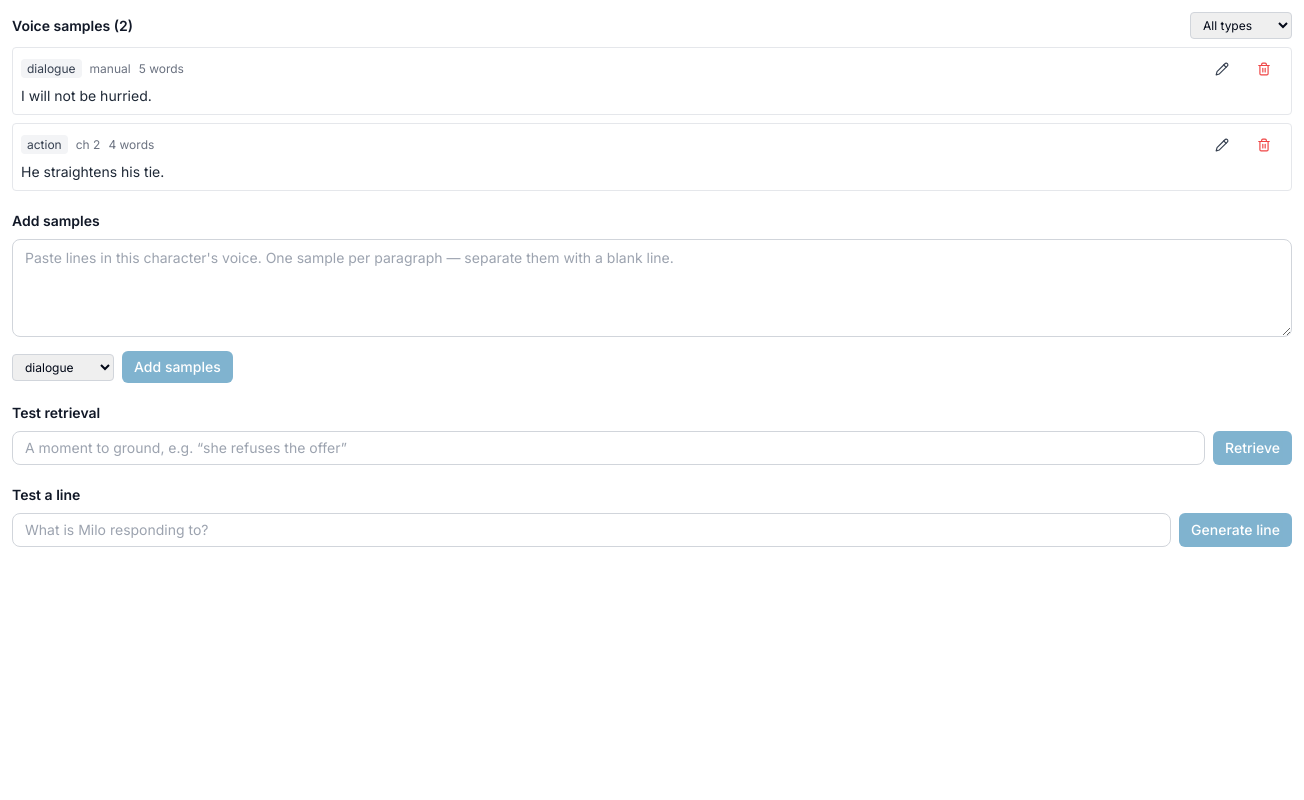
VoicePanel › retrieval shows ranked scores with the threshold line
The image size is (1304, 800).
Step 1. Type "refuses" into the field named "Retrieval query" → (609, 448), box x1=12 y1=431 x2=1205 y2=465
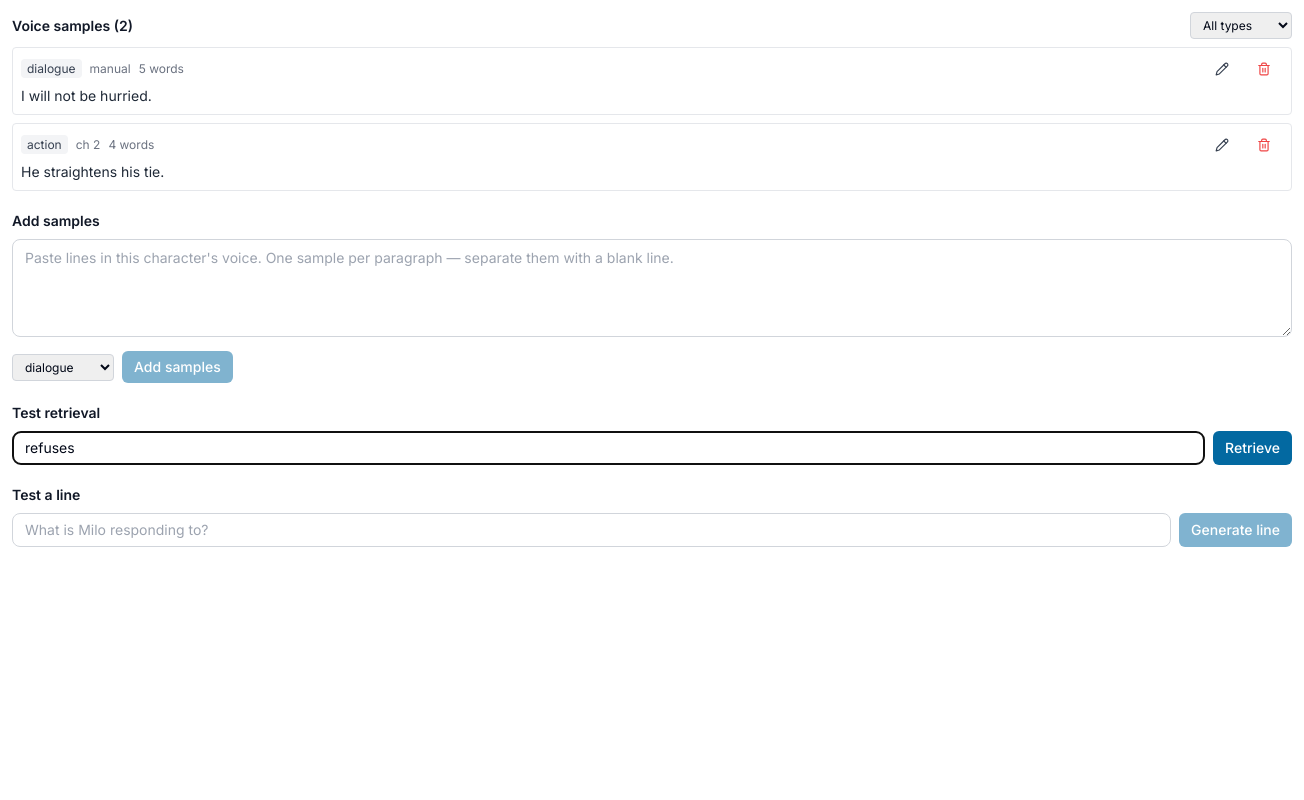
Step 2. Click the button "Retrieve" → click(1253, 448), box x1=1213 y1=431 x2=1292 y2=465
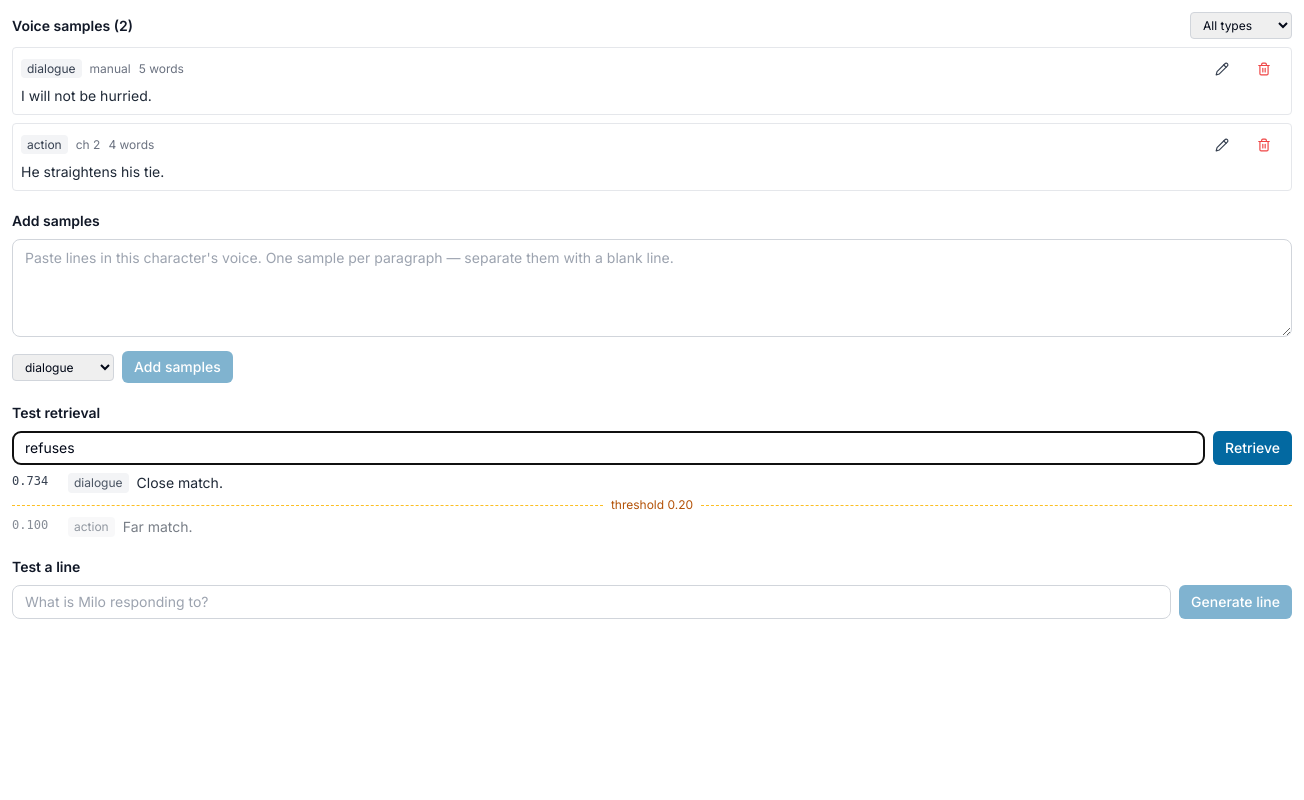
Result: the list item with test id "retrieval-hit" shows "0.734" at x1=12 y1=474 x2=48 y2=488
Result: the list item with test id "retrieval-hit" shows "Close match." at x1=136 y1=474 x2=223 y2=491
Result: the list item with test id "retrieval-hit" shows "0.100" at x1=12 y1=518 x2=48 y2=532
